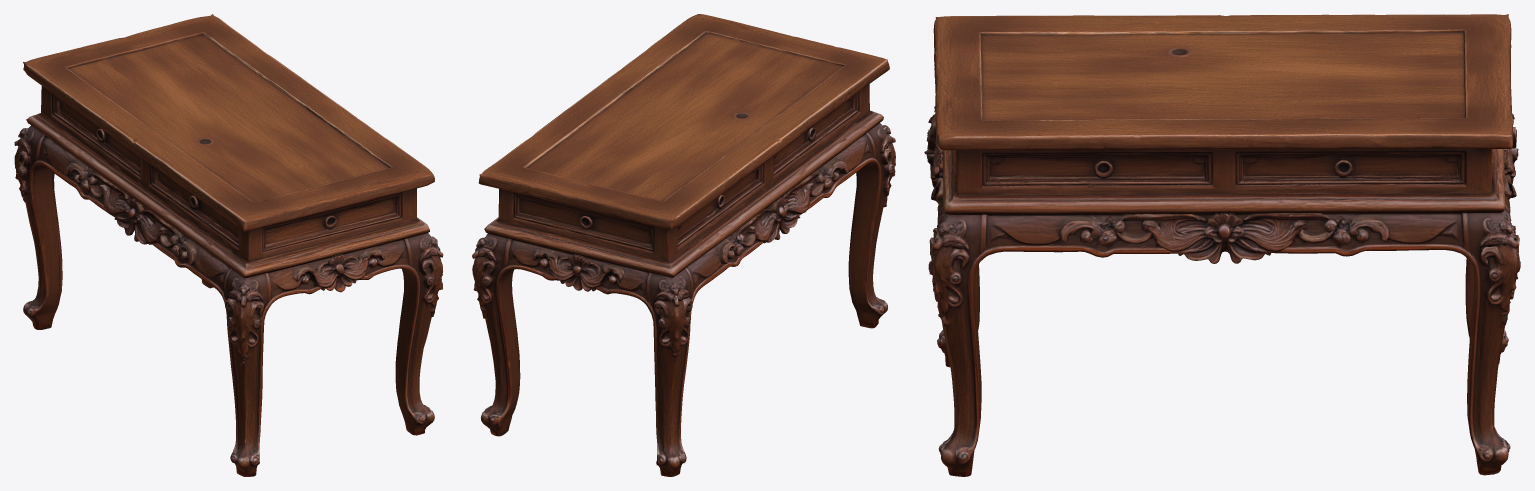
The model's file is antik holztisch 3d modell.glb.
The picture shows the model from 3 angles, left to right: view 1: azimuth 30°, elevation 25°; view 2: azimuth 150°, elevation 25°; view 3: azimuth 270°, elevation 25°; orthographic projection. The views are drawn at different scales.
Visible parts, largest first — view 1: tripo_node_299e9aa1-1156-489f-9098-d57030996296; view 2: tripo_node_299e9aa1-1156-489f-9098-d57030996296; view 3: tripo_node_299e9aa1-1156-489f-9098-d57030996296.
Boxes of the visible parts, x1=… form: tripo_node_299e9aa1-1156-489f-9098-d57030996296: x1=14, y1=14, x2=443, y2=476; tripo_node_299e9aa1-1156-489f-9098-d57030996296: x1=472, y1=14, x2=895, y2=476; tripo_node_299e9aa1-1156-489f-9098-d57030996296: x1=924, y1=14, x2=1520, y2=476.
Size of the model in its own units: 0.5352 by 0.6245 by 0.9838.
Materials: 1 (1 with a texture image).
